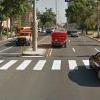Crosswalk: (6, 47, 89, 84)
